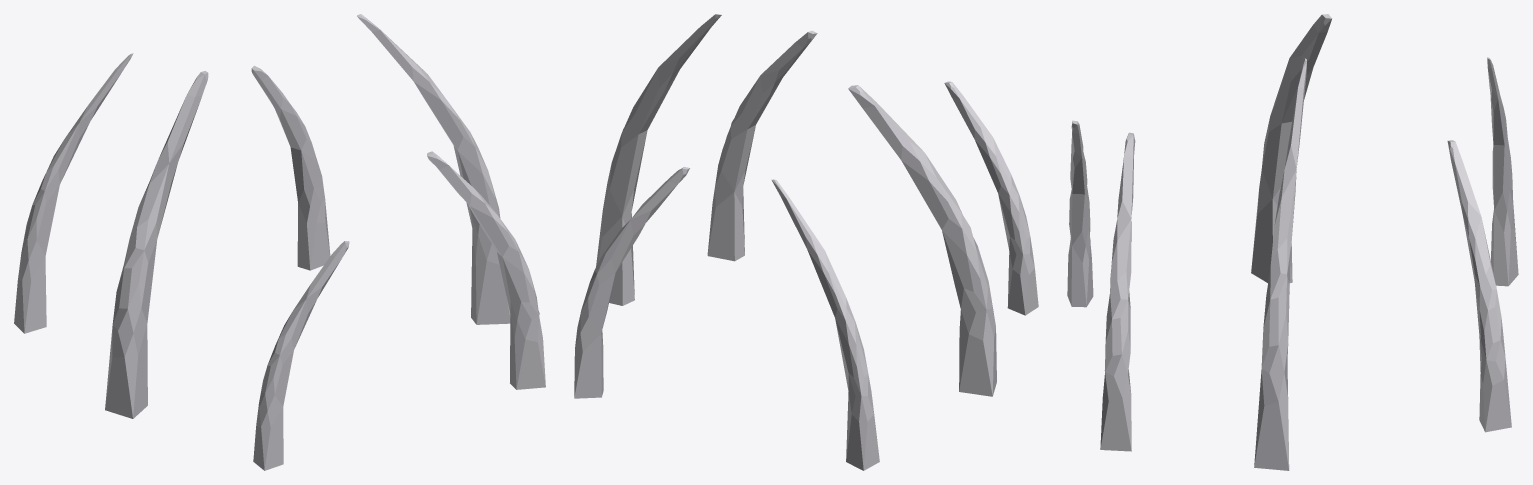
Rendered from Sceleton.fbx.
3 views of the same model, side by side, from view 1: azimuth 30°, elevation 25°; view 2: azimuth 150°, elevation 25°; view 3: azimuth 270°, elevation 25° (orthographic). The views are drawn at different scales.
Parts seen in each view (by area): view 1: LargeSkeleton; view 2: LargeSkeleton; view 3: LargeSkeleton.
Part boxes in pixels (left/top/right/bottom): LargeSkeleton: left=14, top=14, right=545, bottom=470; LargeSkeleton: left=574, top=14, right=1038, bottom=470; LargeSkeleton: left=1067, top=14, right=1518, bottom=470.
Size of the model in its own units: 10.18 by 7.92 by 9.42.
